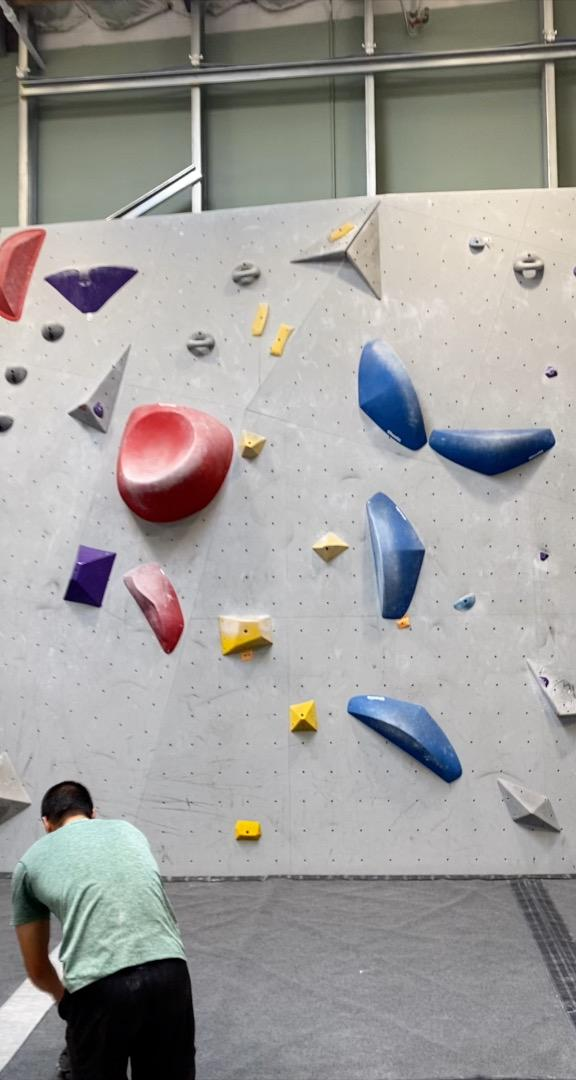holds: (115, 401, 236, 525), (346, 694, 463, 784), (357, 336, 428, 451), (365, 490, 427, 621), (427, 427, 557, 477), (121, 559, 186, 656), (44, 264, 140, 315), (0, 226, 48, 324), (62, 543, 118, 609), (215, 613, 275, 657), (311, 530, 350, 564), (235, 426, 267, 461), (288, 699, 319, 733), (269, 322, 296, 358), (513, 250, 545, 275), (250, 300, 270, 338), (233, 818, 263, 843), (231, 260, 262, 284), (326, 220, 356, 244), (185, 329, 216, 352), (4, 362, 30, 385), (40, 321, 66, 343), (452, 592, 477, 613), (0, 412, 16, 434), (468, 235, 487, 250), (93, 400, 105, 419), (544, 365, 558, 379), (539, 675, 550, 689), (539, 551, 550, 562), (78, 403, 87, 412), (572, 263, 575, 278)
